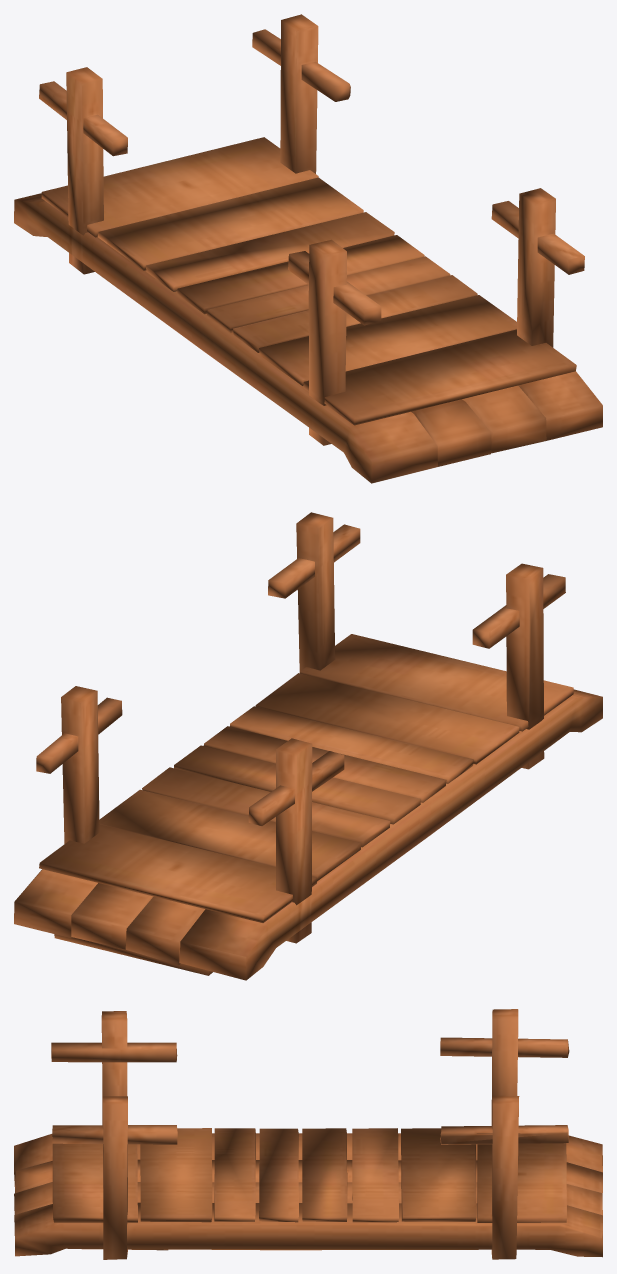
The model's file is bridge_plank.glb.
3 views of the same model, one above another, from view 1: azimuth 30°, elevation 25°; view 2: azimuth 150°, elevation 25°; view 3: azimuth 270°, elevation 25° (orthographic). The views are drawn at different scales.
Visible parts, largest first — view 1: ЦІЛЬ; view 2: ЦІЛЬ; view 3: ЦІЛЬ.
Part boxes in pixels (x1,y1,x2,y2): ЦІЛЬ: (14, 14, 602, 483); ЦІЛЬ: (14, 512, 602, 980); ЦІЛЬ: (14, 1009, 602, 1259).
Size of the model in its own units: 0.8514 by 0.6931 by 2.21.
Materials: 1 (1 with a texture image).
